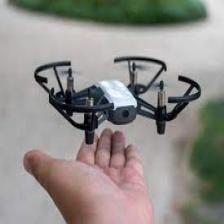drone: (36, 56, 190, 135)
